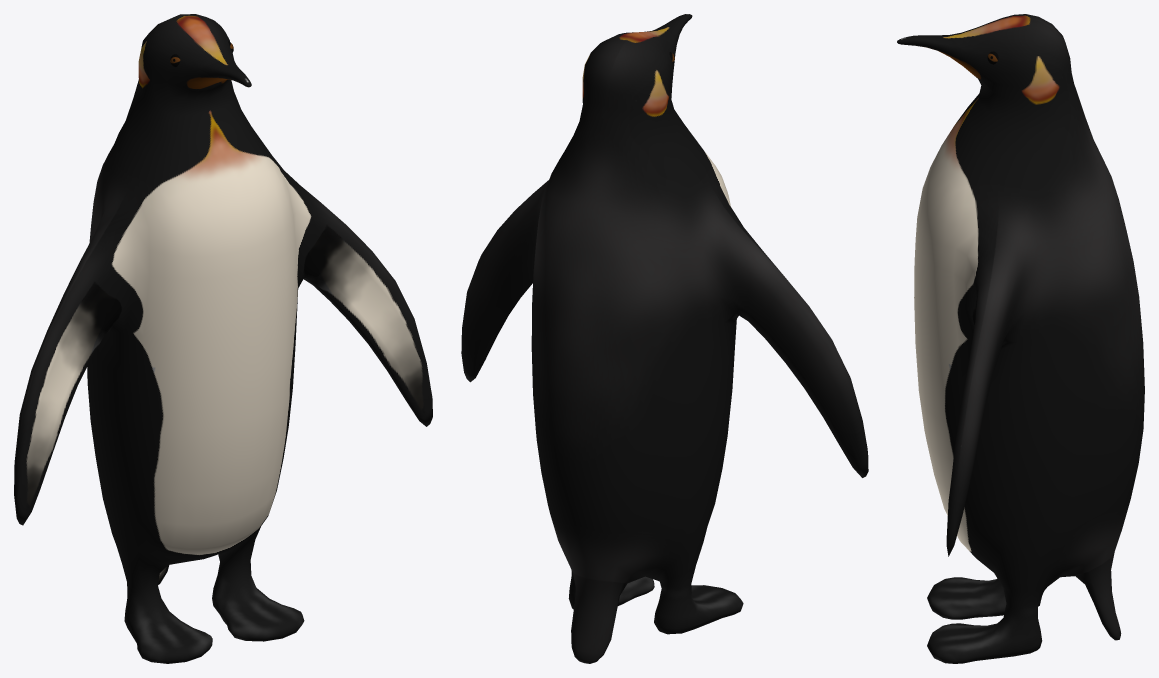
Rendered from penguin_-_lowpoly_3.glb.
3 views of the same model, side by side, from view 1: azimuth 30°, elevation 25°; view 2: azimuth 150°, elevation 25°; view 3: azimuth 270°, elevation 25° (orthographic). The views are drawn at different scales.
Parts seen in each view (by area): view 1: Cube; view 2: Cube; view 3: Cube.
Boxes of the visible parts, x1,y1,x2,y2 form: Cube: (14, 14, 432, 663); Cube: (461, 14, 868, 663); Cube: (897, 14, 1144, 663).
Bounding box in the file's own units: 6.38 × 8.91 × 3.23.
Materials: 2 (2 with a texture image).
